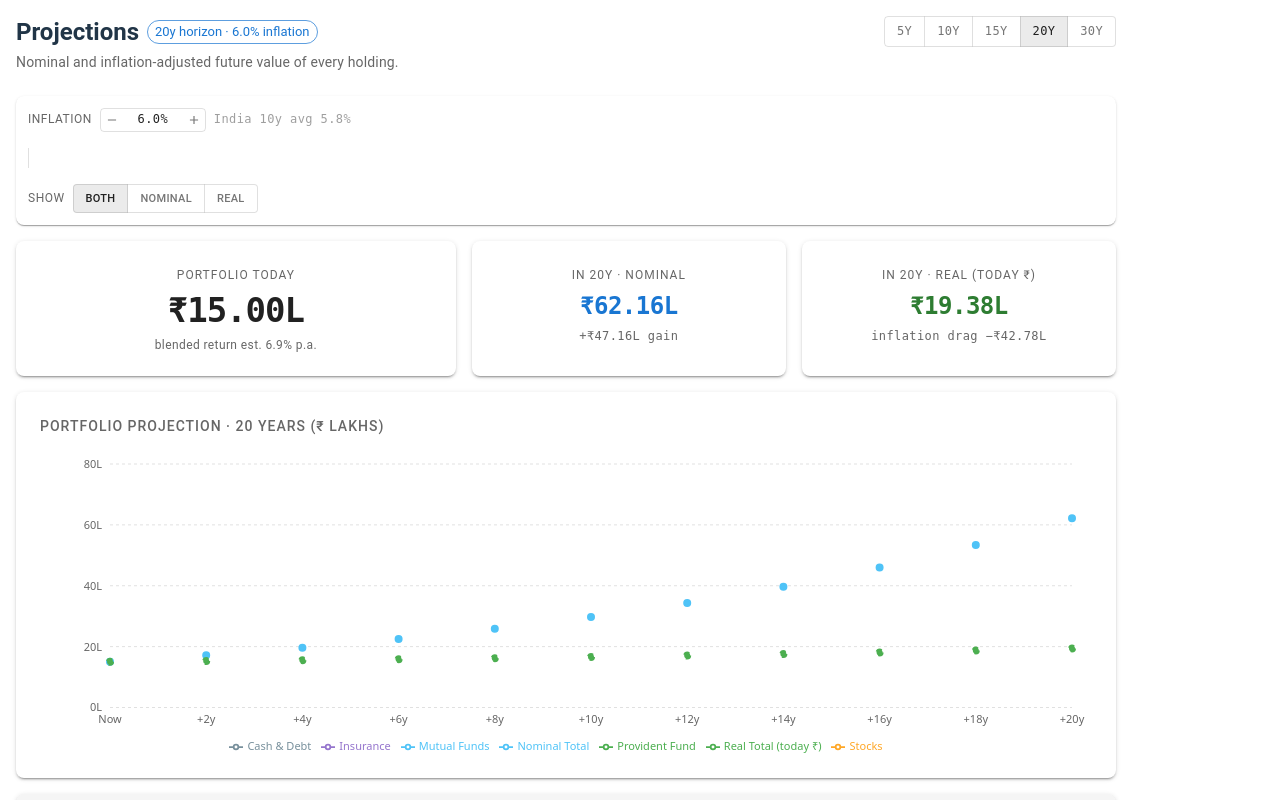
Test: Projections – with data › horizon toggle changes label
Click the button "10y" at (948,32), box [924,16,973,47]
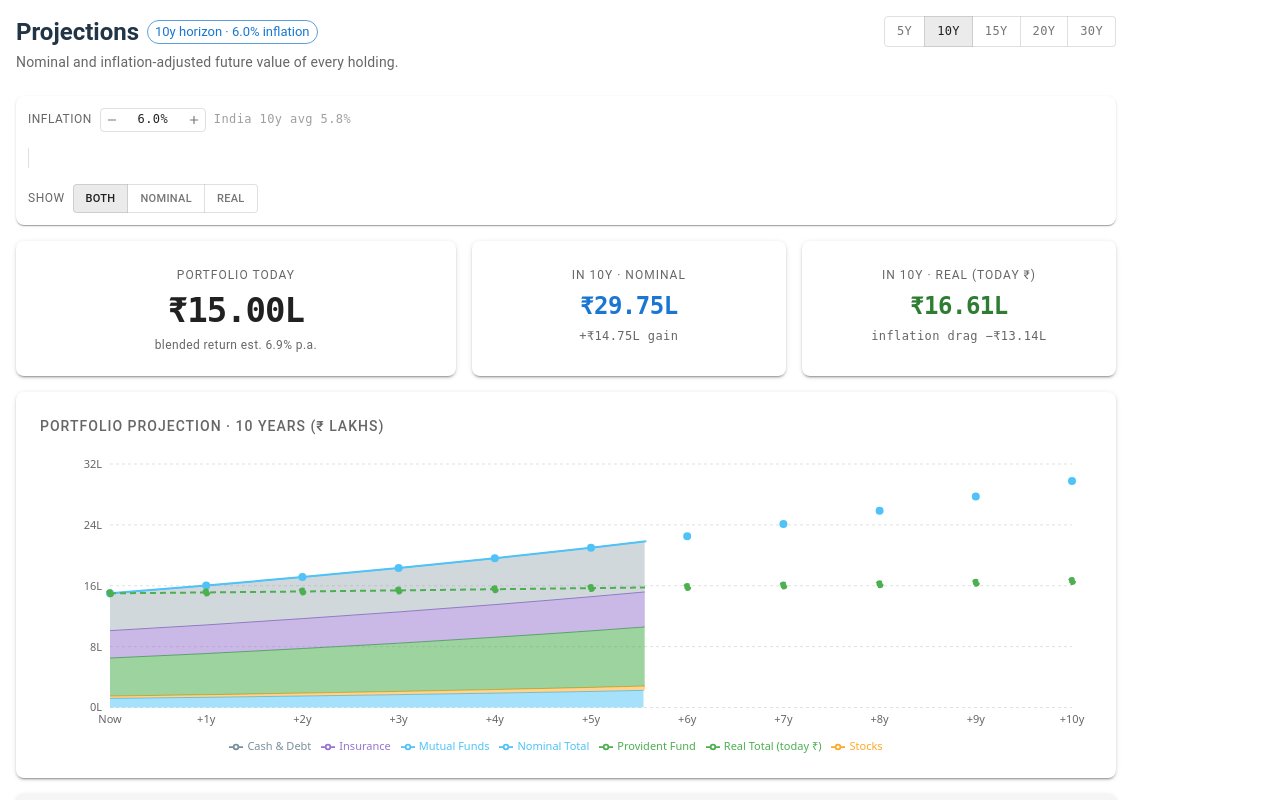
Result: the text "10y horizon · 6.0% inflation" is shown at [148,22,316,42]
